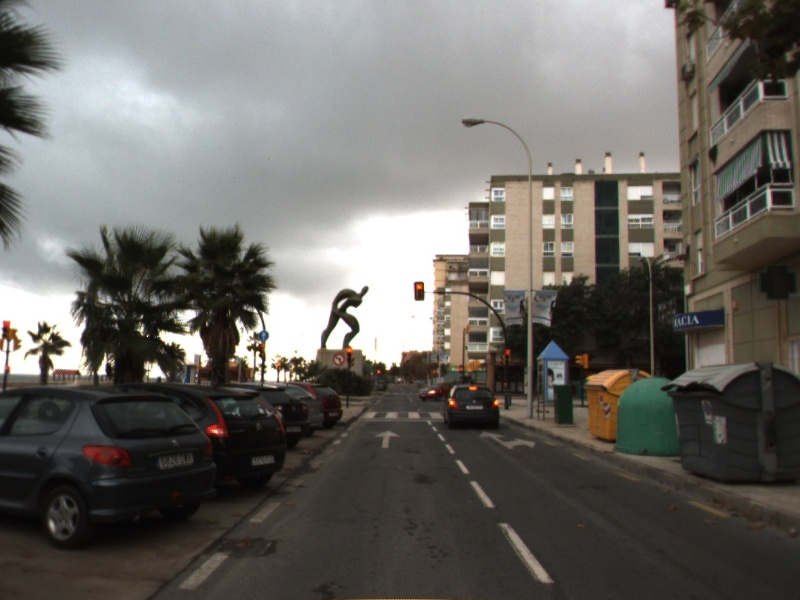STRAIGHT: (373, 429, 402, 449)
STRAIGHT_RIGHT: (477, 429, 538, 451)
